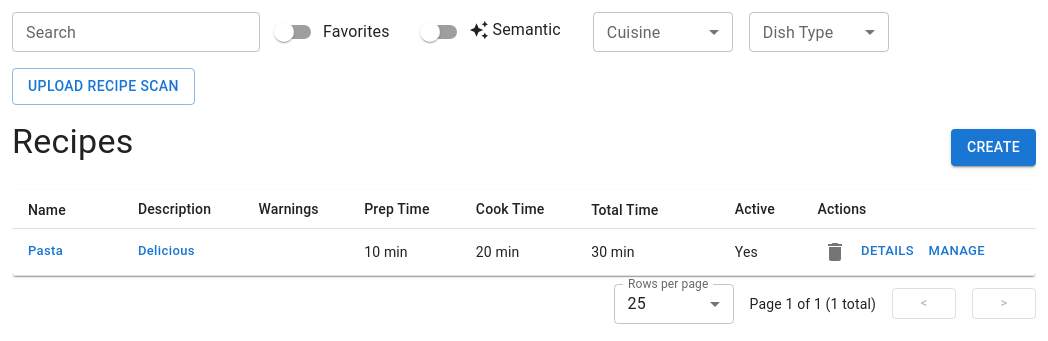
Test: recipes page › shows the describe hint instead of the list when semantic is on with no search
Click the switch labelled "Semantic".
click(490, 31)  # box [420,20,561,42]
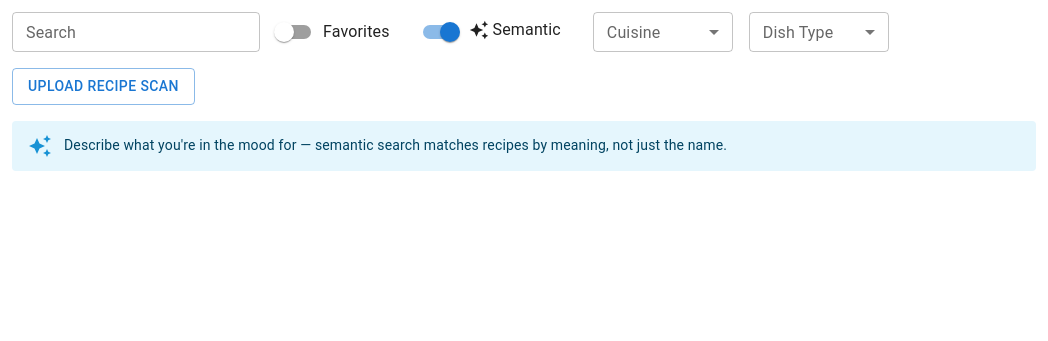
Expected: the text "Describe what you're in the mood for" is shown, [64,136,727,152]
Expected: the table is gone
